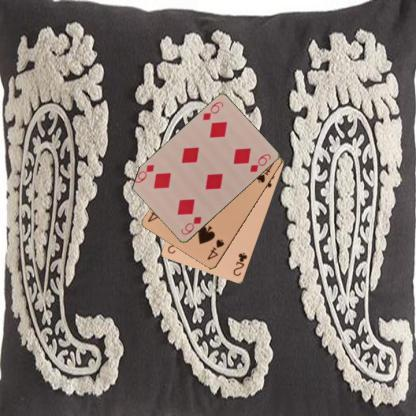2c: (230, 250, 249, 278)
4s: (204, 236, 226, 262)
6d: (199, 99, 224, 122), (178, 214, 202, 236)
